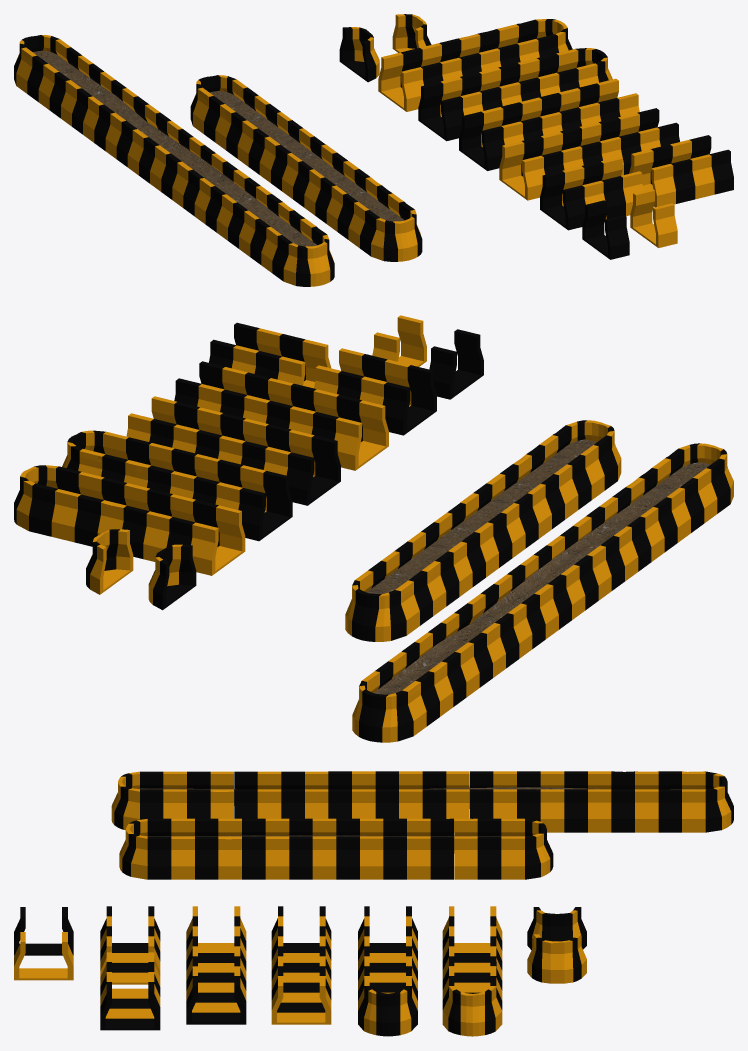
The model's file is road_divider_indian.glb.
3 renders of one model, top to bottom at view 1: azimuth 30°, elevation 25°; view 2: azimuth 150°, elevation 25°; view 3: azimuth 270°, elevation 25°, orthographic. The views are drawn at different scales.
Parts seen in each view (by area): view 1: Cube.007, Cube.005, Cube.009, Cube.011, Cube.013, Cube.003, Cube, Cube.008, Cube.012, Cube.014, Cube.002, Cube.001 (+8 smaller); view 2: Cube.005, Cube.007, Cube, Cube.008, Cube.003, Cube.013, Cube.009, Cube.011, Cube.012, Cube.002, Cube.014, Cube.001 (+8 smaller); view 3: Cube.009, Cube, Cube.008, Cube.011, Cube.012, Cube.005, Cube.007, Cube.003, Cube.013, Cube.014, Cube.002, Cube.015 (+3 smaller).
Boxes of the visible parts, bbox=[...] form: Cube.007: bbox=[418, 48, 612, 141]; Cube.005: bbox=[378, 19, 572, 111]; Cube.009: bbox=[282, 144, 422, 261]; Cube.011: bbox=[194, 169, 334, 286]; Cube.013: bbox=[499, 108, 679, 200]; Cube.003: bbox=[459, 78, 639, 170]; Cube: bbox=[190, 75, 325, 190]; Cube.008: bbox=[14, 35, 148, 150]; Cube.012: bbox=[105, 104, 237, 216]; Cube.014: bbox=[629, 135, 733, 207]; Cube.002: bbox=[540, 156, 643, 230]; Cube.001: bbox=[582, 200, 629, 259]; Cube.005: bbox=[14, 465, 245, 575]; Cube.007: bbox=[62, 430, 292, 541]; Cube: bbox=[345, 502, 512, 641]; Cube.008: bbox=[352, 603, 519, 742]; Cube.003: bbox=[126, 396, 340, 505]; Cube.013: bbox=[174, 361, 388, 470]; Cube.009: bbox=[460, 420, 621, 557]; Cube.011: bbox=[573, 443, 733, 581]; Cube.012: bbox=[467, 526, 624, 658]; Cube.002: bbox=[314, 348, 436, 435]; Cube.014: bbox=[209, 322, 331, 388]; Cube.001: bbox=[429, 329, 483, 399]; Cube.009: bbox=[119, 818, 336, 879]; Cube: bbox=[336, 818, 553, 879]; Cube.008: bbox=[517, 771, 733, 832]; Cube.011: bbox=[111, 771, 328, 829]; Cube.012: bbox=[328, 771, 516, 832]; Cube.005: bbox=[442, 906, 502, 1036]; Cube.007: bbox=[358, 906, 417, 1036]; Cube.003: bbox=[271, 906, 331, 1024]; Cube.013: bbox=[186, 906, 246, 1024]; Cube.014: bbox=[100, 952, 160, 1030]; Cube.002: bbox=[100, 906, 160, 984]; Cube.015: bbox=[527, 934, 586, 983].
Size of what is drawn, in the model's own units: 9.18 by 0.7218 by 12.19.
3 materials, 1 textured.
